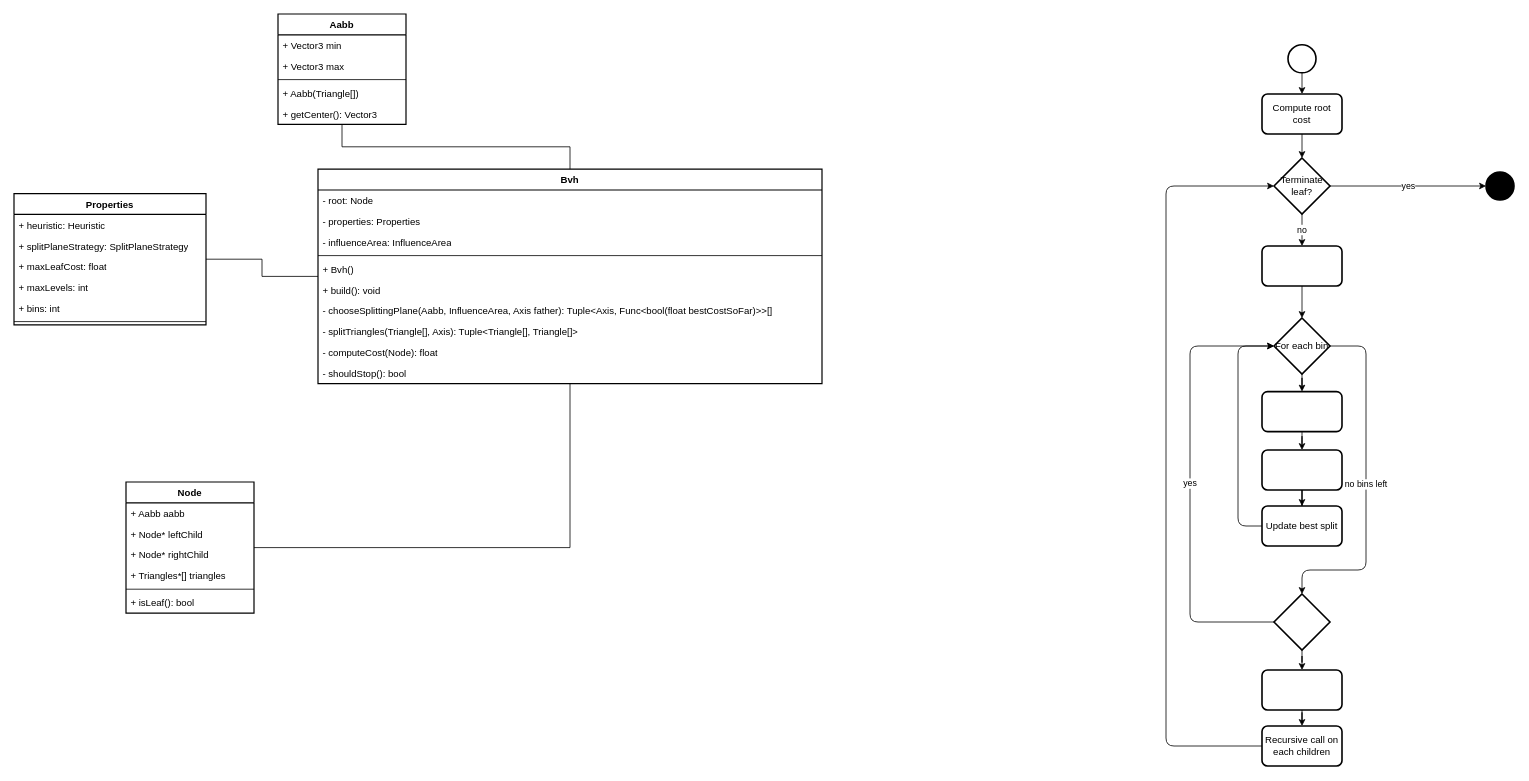
This 1529x781 diagram has some shape labels left out. The shapes that lost their labels are listed below. From the top down, each one's centre as x and y in pixels, then its label:
point (1301, 265): Choose splitting plane
point (1301, 411): Split triangles
point (1301, 469): Compute cost
point (1301, 621): Try another plane?
point (1301, 689): Set children to best split
